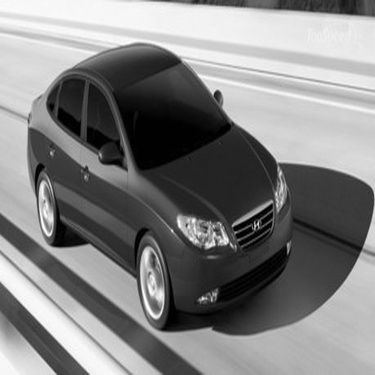car: (17, 39, 296, 330)
